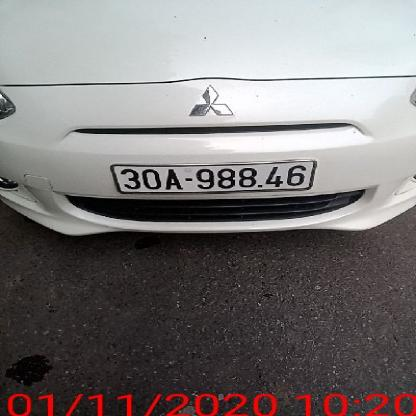biensoxe: (105, 158, 325, 200)
